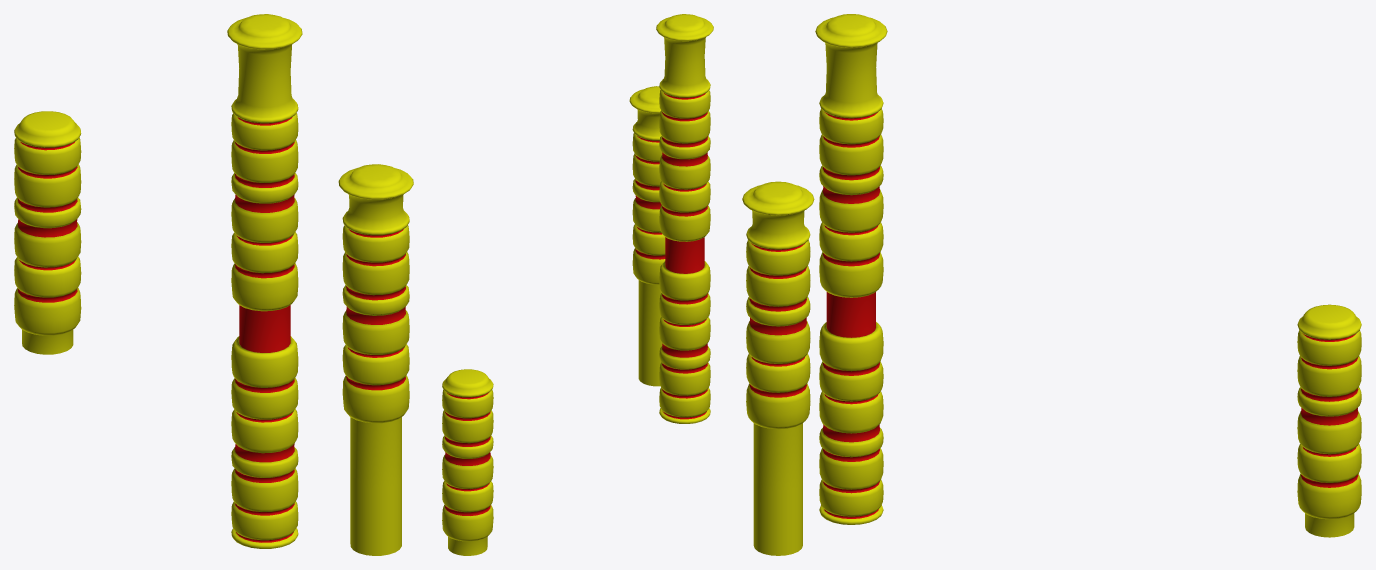
Rendered from Exterior_Antenna.fbx.
3 renders of one model, left to right at view 1: azimuth 30°, elevation 25°; view 2: azimuth 150°, elevation 25°; view 3: azimuth 270°, elevation 25°, orthographic. The views are drawn at different scales.
Visible parts, largest first — view 1: Antenna_2, Antenna_3, Antenna_1; view 2: Antenna_2, Antenna_1, Antenna_3; view 3: Antenna_2, Antenna_3, Antenna_1.
Boxes of the visible parts, x1,y1,x2,y2 form: Antenna_2: (227,14,302,548); Antenna_3: (338,164,413,555); Antenna_1: (14,111,81,354); Antenna_2: (656,14,713,423); Antenna_1: (442,369,493,555); Antenna_3: (629,86,665,386); Antenna_2: (815,14,887,524); Antenna_3: (742,181,814,555); Antenna_1: (1297,304,1361,537).
Bounding box in the file's own units: 217 × 767 × 880.
